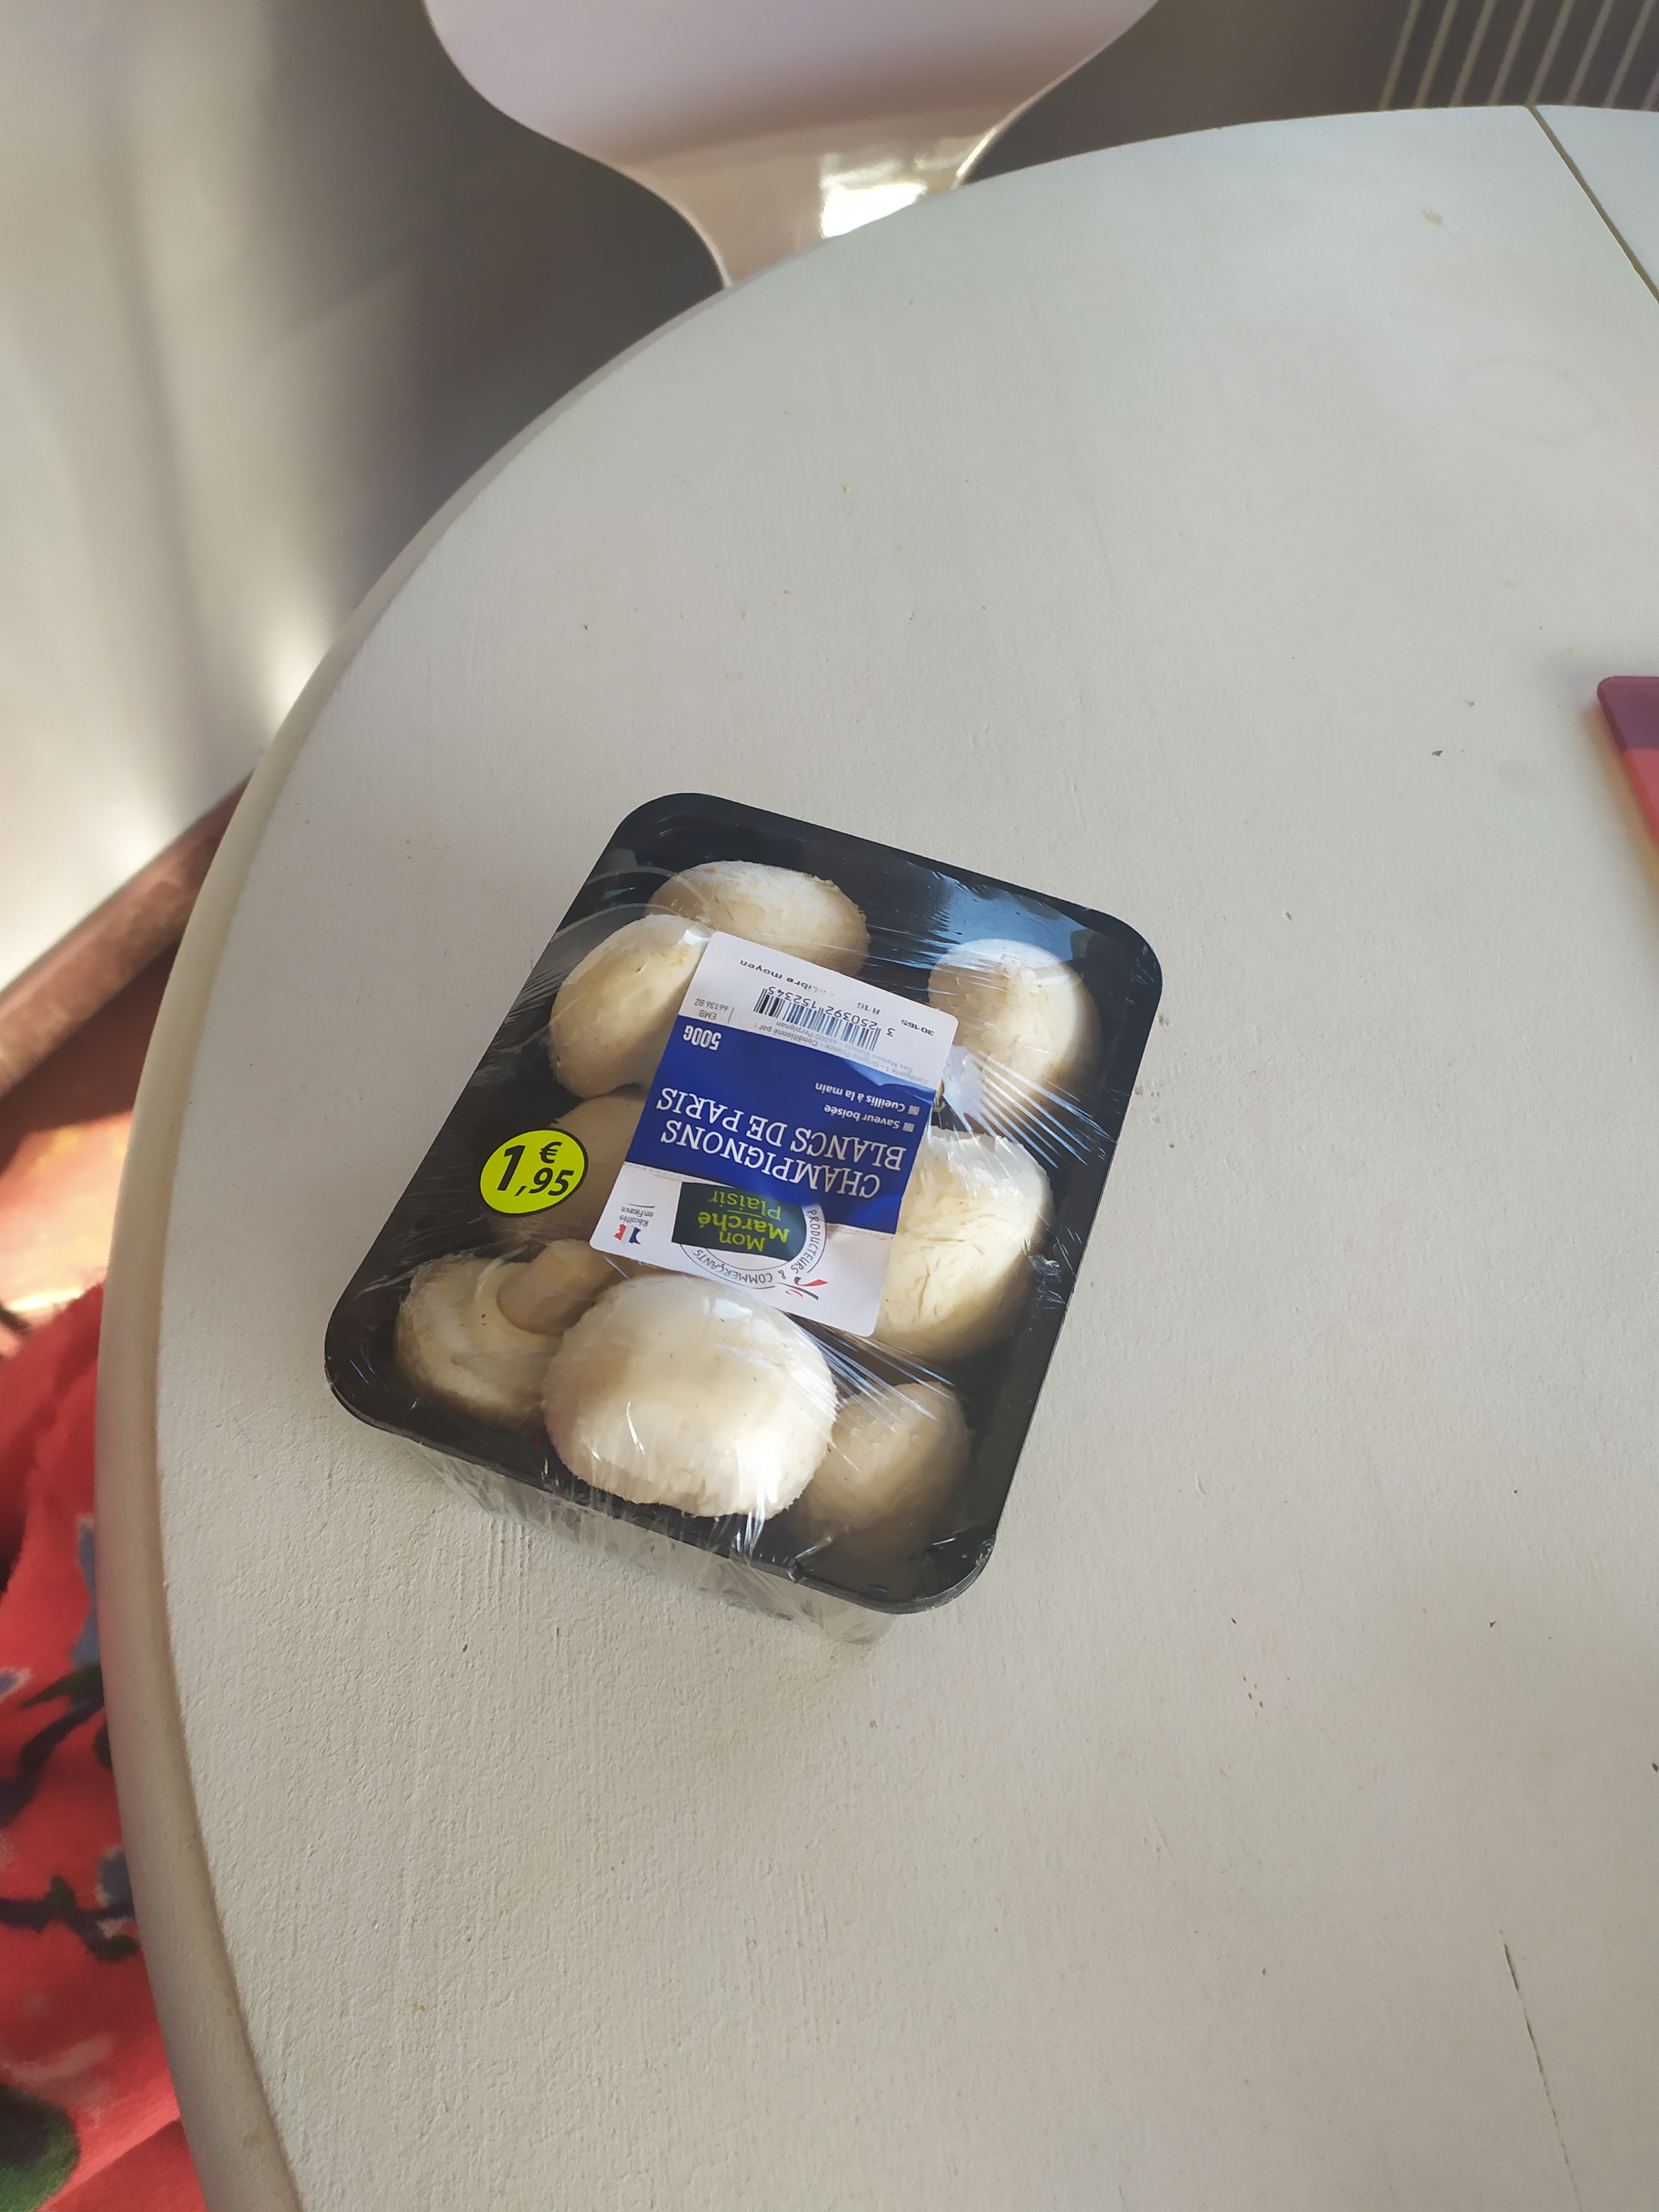mushroom: (305, 786, 1169, 1618)
